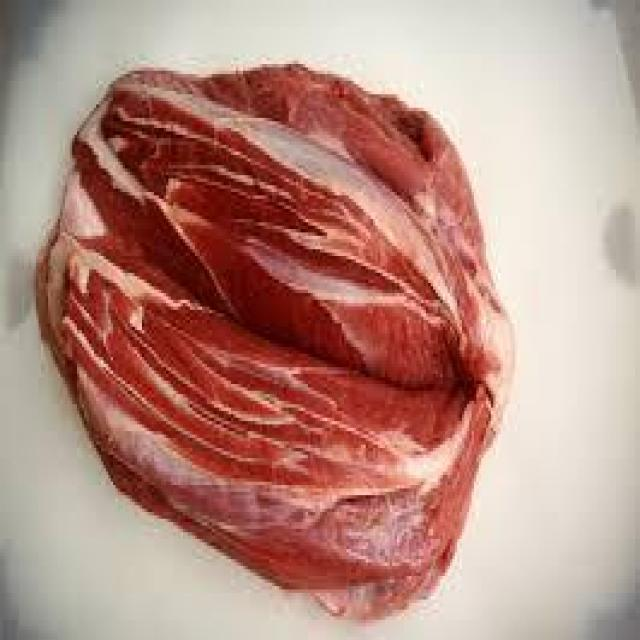Wet Waste: (29, 19, 548, 640)
